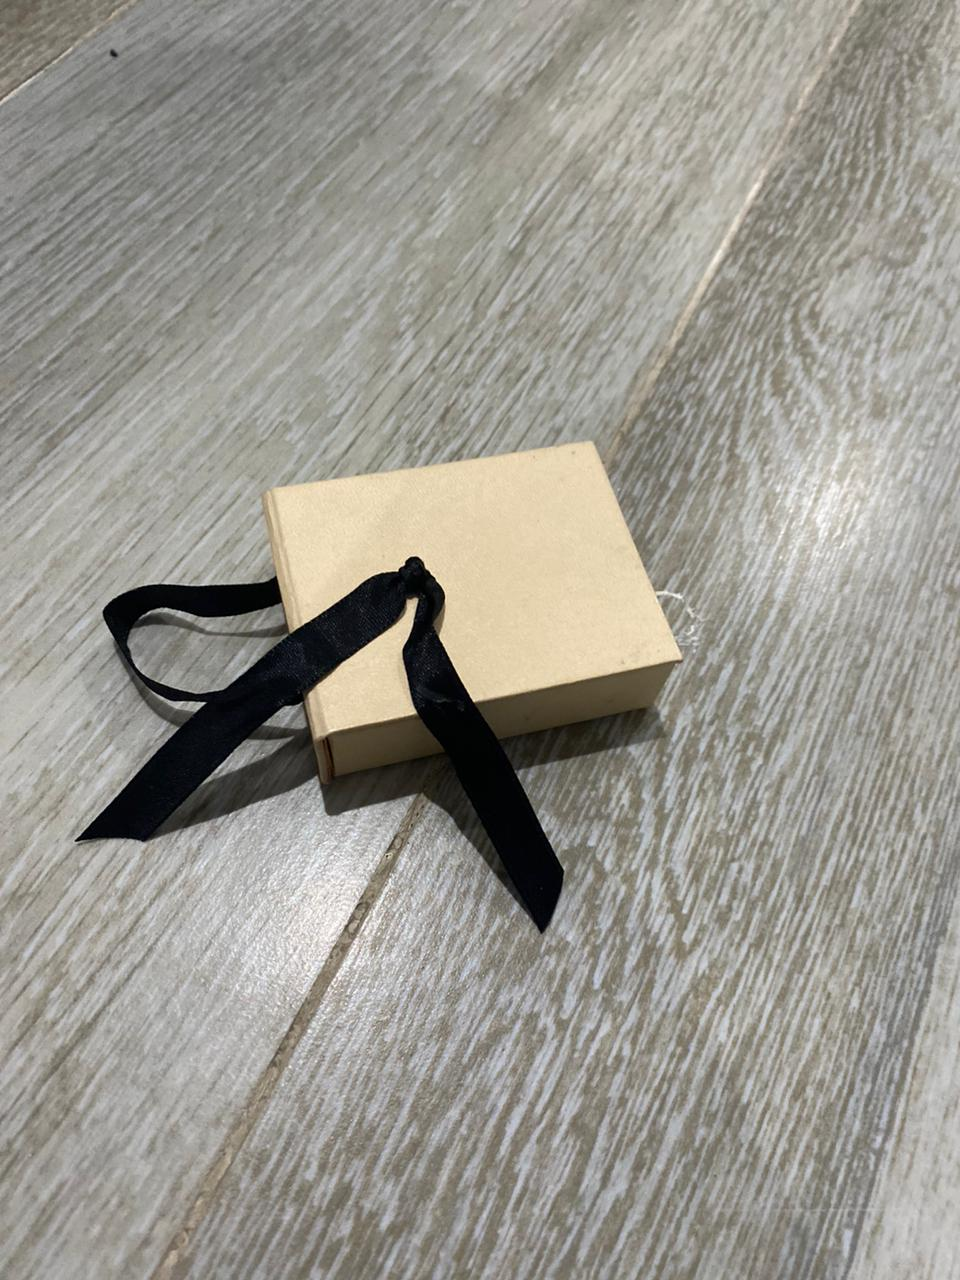Yellow Box: (254, 438, 687, 798)
